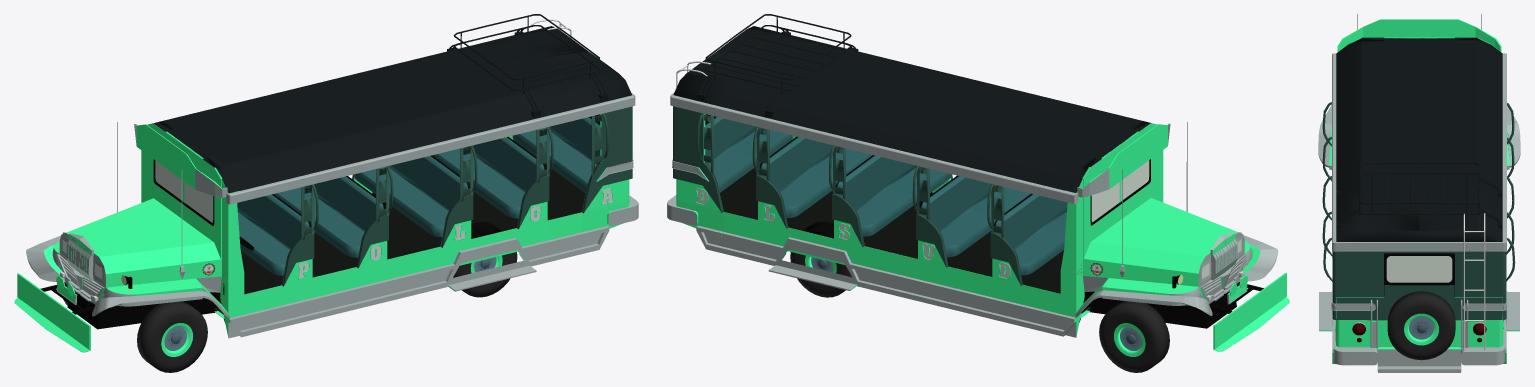
Rendered from Ikot La Salle Final.fbx.
3 views of the same model, side by side, from view 1: azimuth 30°, elevation 25°; view 2: azimuth 150°, elevation 25°; view 3: azimuth 270°, elevation 25° (orthographic). The views are drawn at different scales.
Parts seen in each view (by area): view 1: Ikot La Salle, FrontLeftWheels, RearLeftWheels, HandleBar.004, HandleBar, HandleBar.003, HandleBar.001, HandleBar.002, Text.002; view 2: Ikot La Salle, FrontRightWheels, RearRightWheels, HandleBar.001, HandleBar.004, HandleBar.003, HandleBar, Text, HandleBar.002; view 3: Ikot La Salle, Spare Wheels, Ladder, HandleBar.002, HandleBar.001, HandleBar, HandleBar.004, HandleBar.003.
Boxes of the visible parts, bbox=[...] form: Ikot La Salle: bbox=[14, 14, 638, 352]; FrontLeftWheels: bbox=[137, 301, 207, 372]; RearLeftWheels: bbox=[453, 252, 517, 297]; HandleBar.004: bbox=[301, 184, 318, 240]; HandleBar: bbox=[460, 145, 477, 201]; HandleBar.003: bbox=[376, 166, 393, 221]; HandleBar.001: bbox=[536, 126, 553, 182]; HandleBar.002: bbox=[591, 114, 608, 177]; Text.002: bbox=[299, 188, 613, 278]; Ikot La Salle: bbox=[667, 14, 1289, 351]; FrontRightWheels: bbox=[1099, 301, 1169, 372]; RearRightWheels: bbox=[790, 252, 851, 297]; HandleBar.001: bbox=[752, 127, 769, 181]; HandleBar.004: bbox=[987, 184, 1004, 238]; HandleBar.003: bbox=[912, 166, 929, 220]; HandleBar: bbox=[828, 145, 845, 199]; Text: bbox=[697, 188, 1009, 277]; HandleBar.002: bbox=[697, 114, 713, 176]; Ikot La Salle: bbox=[1318, 14, 1520, 372]; Spare Wheels: bbox=[1387, 291, 1455, 360]; Ladder: bbox=[1463, 213, 1485, 350]; HandleBar.002: bbox=[1323, 237, 1515, 281]; HandleBar.001: bbox=[1322, 211, 1514, 258]; HandleBar: bbox=[1322, 176, 1514, 220]; HandleBar.004: bbox=[1322, 102, 1514, 146]; HandleBar.003: bbox=[1322, 136, 1514, 181].
Size of the model in its own units: 2928 by 1001 by 960.
Materials: 22 (1 with a texture image).
